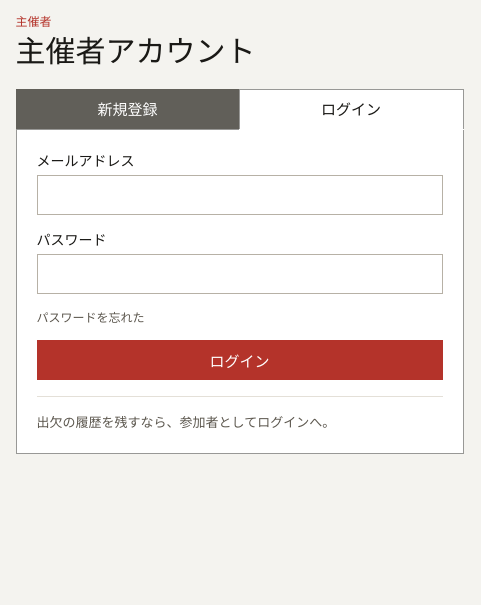
Test: 確認メールの再送 › 未確認ログインのフォームでも、送り直した事実だけを出す
Type "taro@example.com" into the field labelled "メールアドレス". click: coordinates (240, 195)
box: [36,175,442,215]
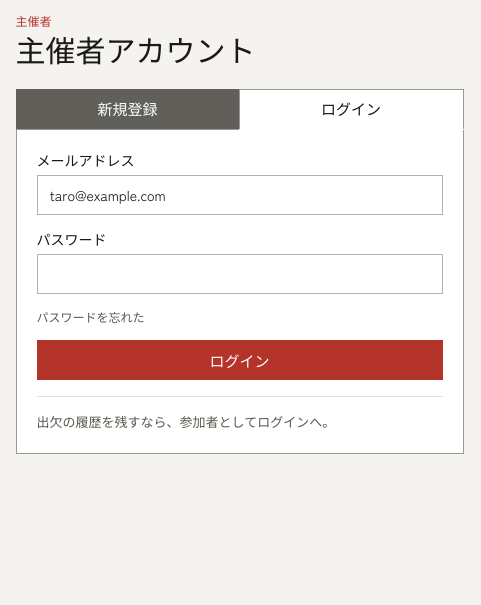
Type "password123" into the password field labelled "パスワード". click: coordinates (240, 274)
box: [36,254,442,294]
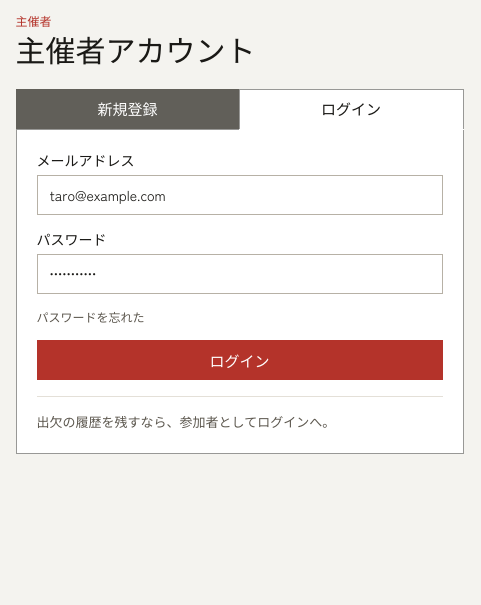
Click the button "ログイン". click: coordinates (240, 360)
box: [36,340,442,380]
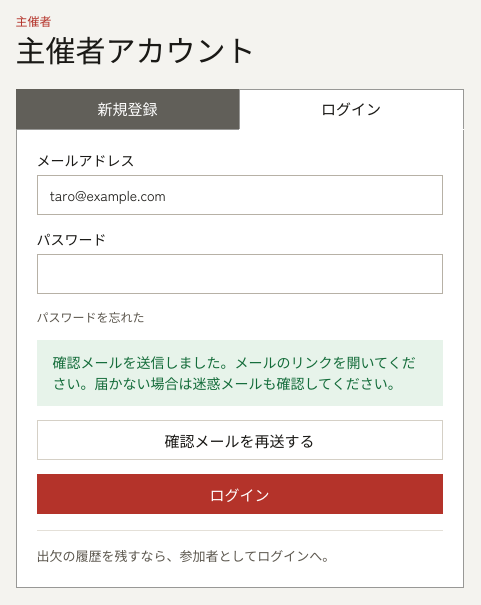
Expected: the text "確認メールを送信しました。メールのリンクを開いてください。届かない場合は迷惑メールも確認してください。" is shown, [36,340,442,406]
Click the button "確認メールを再送する". click: coordinates (240, 440)
box: [36,420,442,460]
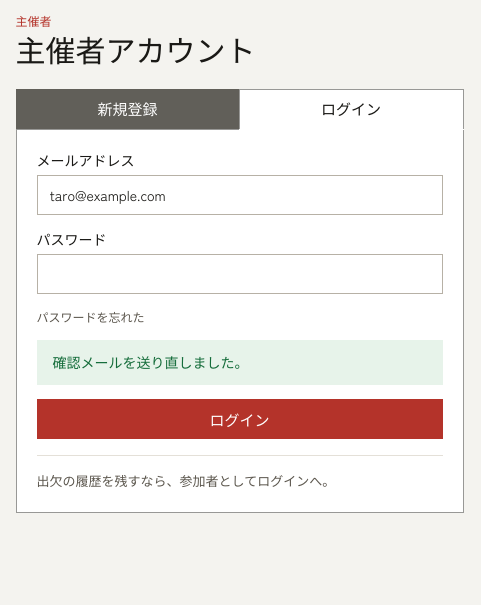
Expected: the text "確認メールを送り直しました。" is shown, [36,340,442,385]
Expected: the text "確認メールを送信しました。メールのリンクを開いてください。届かない場合は迷惑メールも確認してください。" is gone
